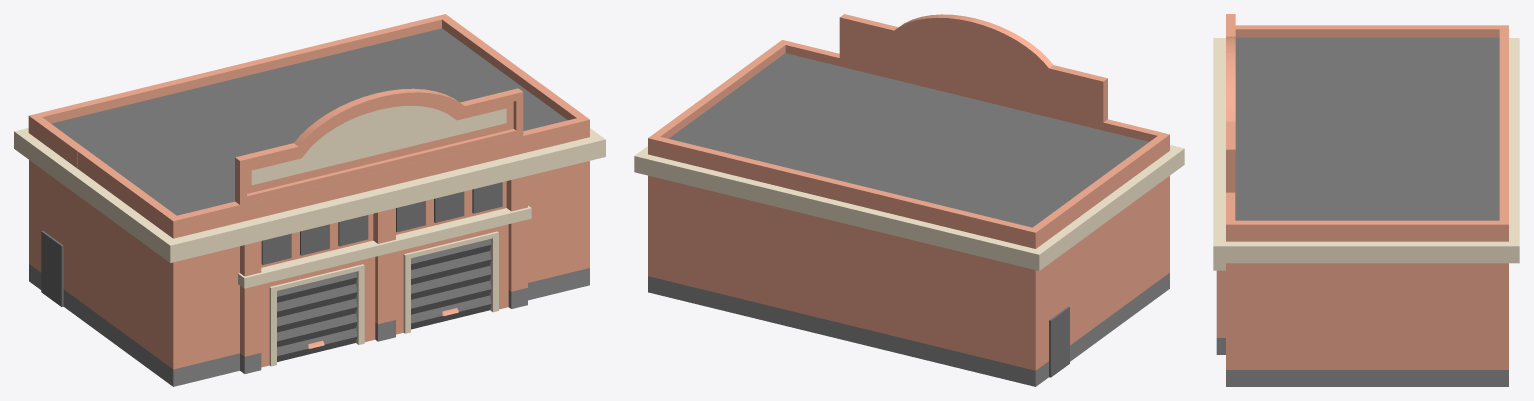
The model's file is building_orange_firehouse.fbx.
The picture shows the model from 3 angles, left to right: view 1: azimuth 30°, elevation 25°; view 2: azimuth 150°, elevation 25°; view 3: azimuth 270°, elevation 25°; orthographic projection. The views are drawn at different scales.
Visible parts, largest first — view 1: building_orange_firehouse; view 2: building_orange_firehouse; view 3: building_orange_firehouse.
Part boxes in pixels (x1,y1,x2,y2): building_orange_firehouse: (14,14,605,386); building_orange_firehouse: (634,14,1184,386); building_orange_firehouse: (1213,14,1519,386).
Bounding box in the file's own units: 523 × 275 × 325.
